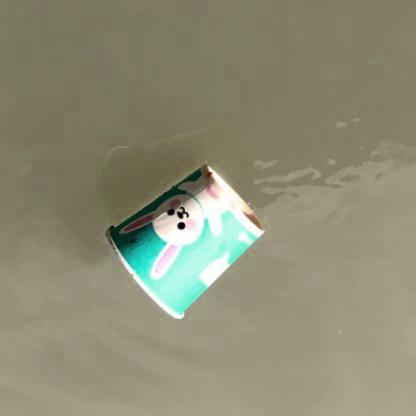Plastic: (100, 158, 266, 323)
